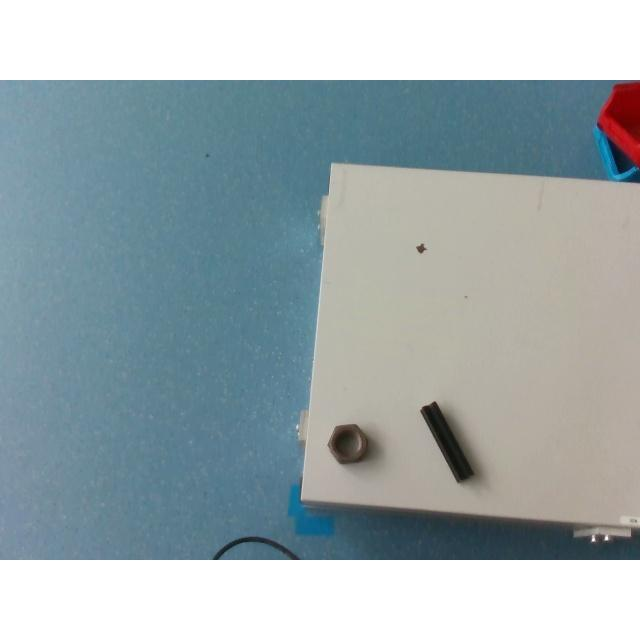F20_20_B: (421, 402, 473, 482)
M30: (327, 421, 369, 464)
